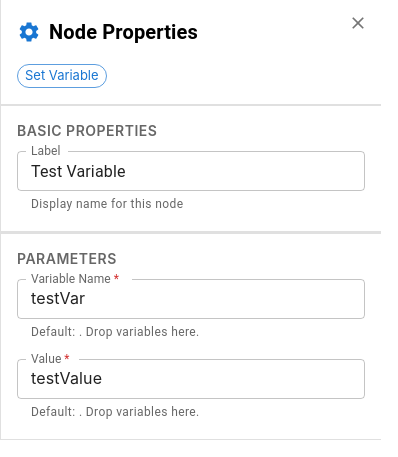
Test: RuleBuilder RightSidebar Component › Label Update Functionality › should handle label blur event
Replace the text in the field showing "Test Variable" with "New Label". click: x=191, y=171
box: [17, 151, 365, 191]
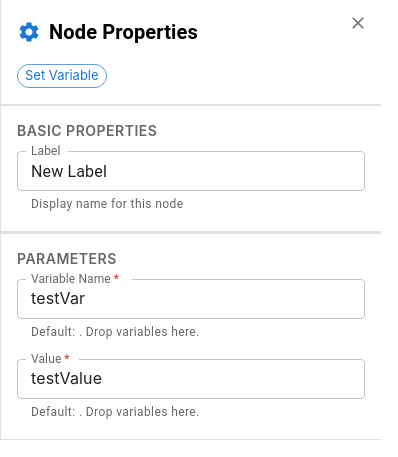
Leave the field showing "Test Variable", box [17, 151, 365, 191]
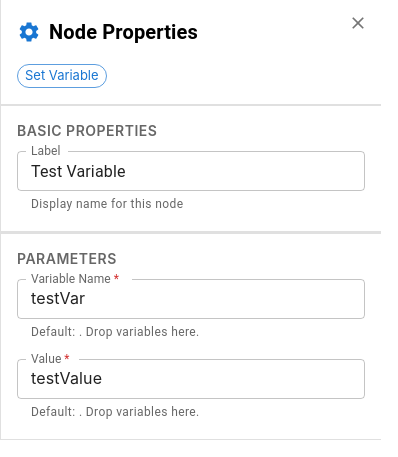
Check: the field showing "Test Variable" is shown, box [17, 151, 365, 191]
